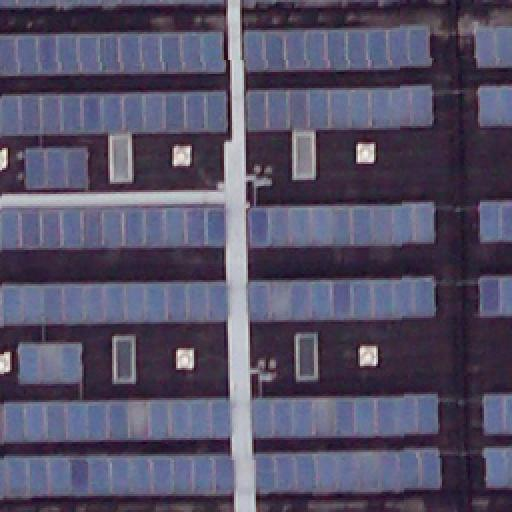solar-panel: (0, 278, 228, 326), (0, 453, 232, 499), (1, 397, 231, 443), (0, 205, 224, 251), (0, 93, 224, 139), (0, 33, 224, 79), (248, 199, 436, 249), (252, 446, 440, 494), (249, 277, 439, 323), (241, 25, 431, 71), (244, 85, 432, 131), (252, 394, 440, 438), (18, 340, 82, 384), (24, 147, 88, 189), (1, 0, 223, 8), (473, 27, 511, 69), (476, 200, 512, 244), (473, 86, 511, 126), (480, 272, 512, 316), (480, 391, 512, 433), (481, 444, 511, 488), (242, 0, 322, 4)
